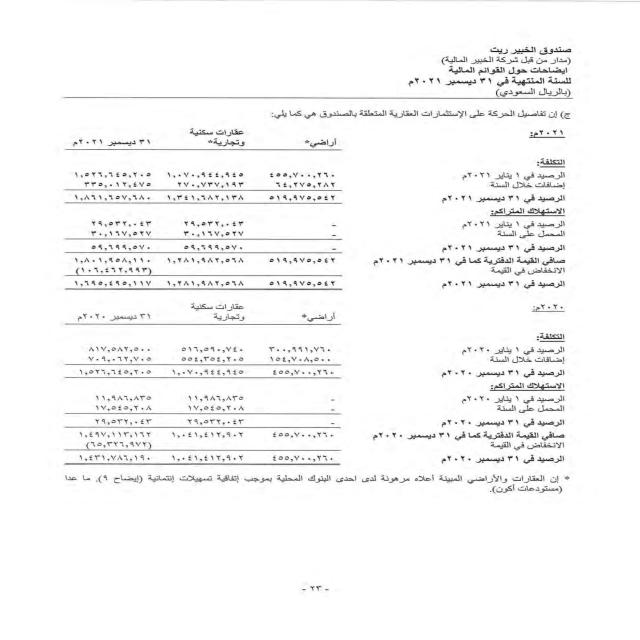notes: (441, 66, 571, 74)
table: (34, 121, 380, 473)
